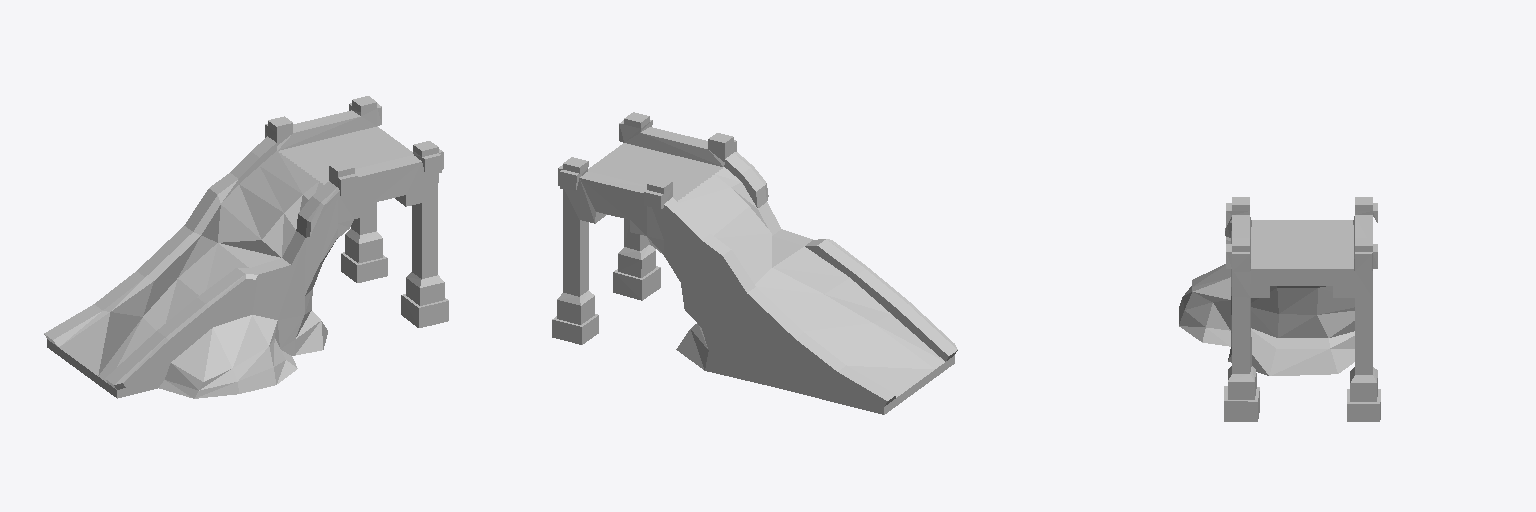
Rendered from stairsRuin01.obj.
The picture shows the model from 3 angles: view 1: azimuth 30°, elevation 25°; view 2: azimuth 150°, elevation 25°; view 3: azimuth 270°, elevation 25°; orthographic projection.
Parts seen in each view (by area): view 1: pCube1 polySurface2, polySurface1 pCube1; view 2: pCube1 polySurface2, polySurface1 pCube1; view 3: polySurface1 pCube1, pCube1 polySurface2.
Boxes of the visible parts, x1=… form: pCube1 polySurface2: x1=44, y1=136, x2=339, y2=398; polySurface1 pCube1: x1=265, y1=96, x2=448, y2=327; pCube1 polySurface2: x1=663, y1=152, x2=957, y2=414; polySurface1 pCube1: x1=552, y1=112, x2=736, y2=344; polySurface1 pCube1: x1=1224, y1=197, x2=1380, y2=421; pCube1 polySurface2: x1=1179, y1=220, x2=1354, y2=375.
Size of the model in its own units: 20.83 by 10.51 by 11.02.